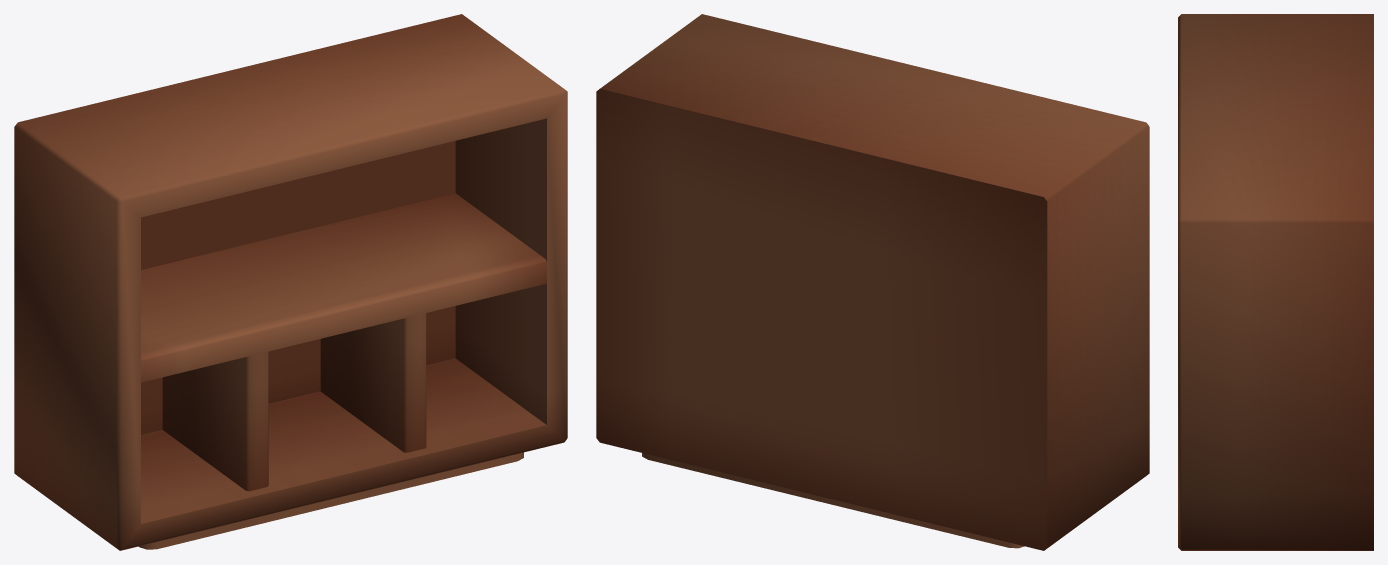
Rendered from Bookshelf.fbx.
The picture shows the model from 3 angles, left to right: view 1: azimuth 30°, elevation 25°; view 2: azimuth 150°, elevation 25°; view 3: azimuth 270°, elevation 25°; orthographic projection. The views are drawn at different scales.
Parts seen in each view (by area): view 1: Bookshelf; view 2: Bookshelf; view 3: Bookshelf.
Boxes of the visible parts, x1,y1,x2,y2 form: Bookshelf: (14,14,567,550); Bookshelf: (596,14,1149,550); Bookshelf: (1178,14,1373,550).
Bounding box in the file's own units: 400 × 310 × 160.
